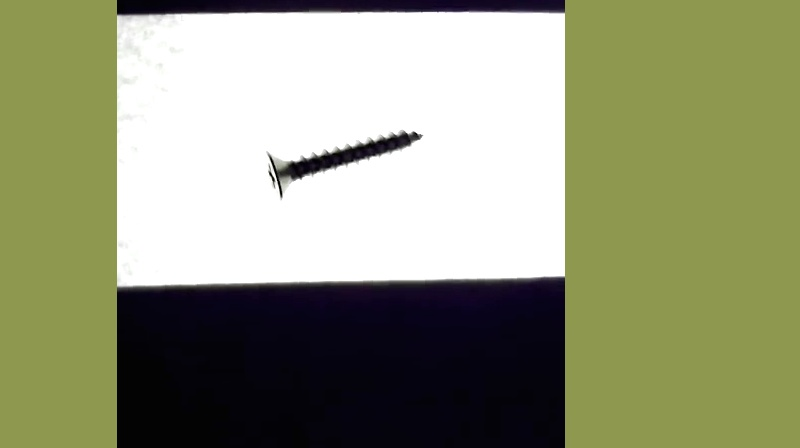S001: (256, 124, 428, 206)
